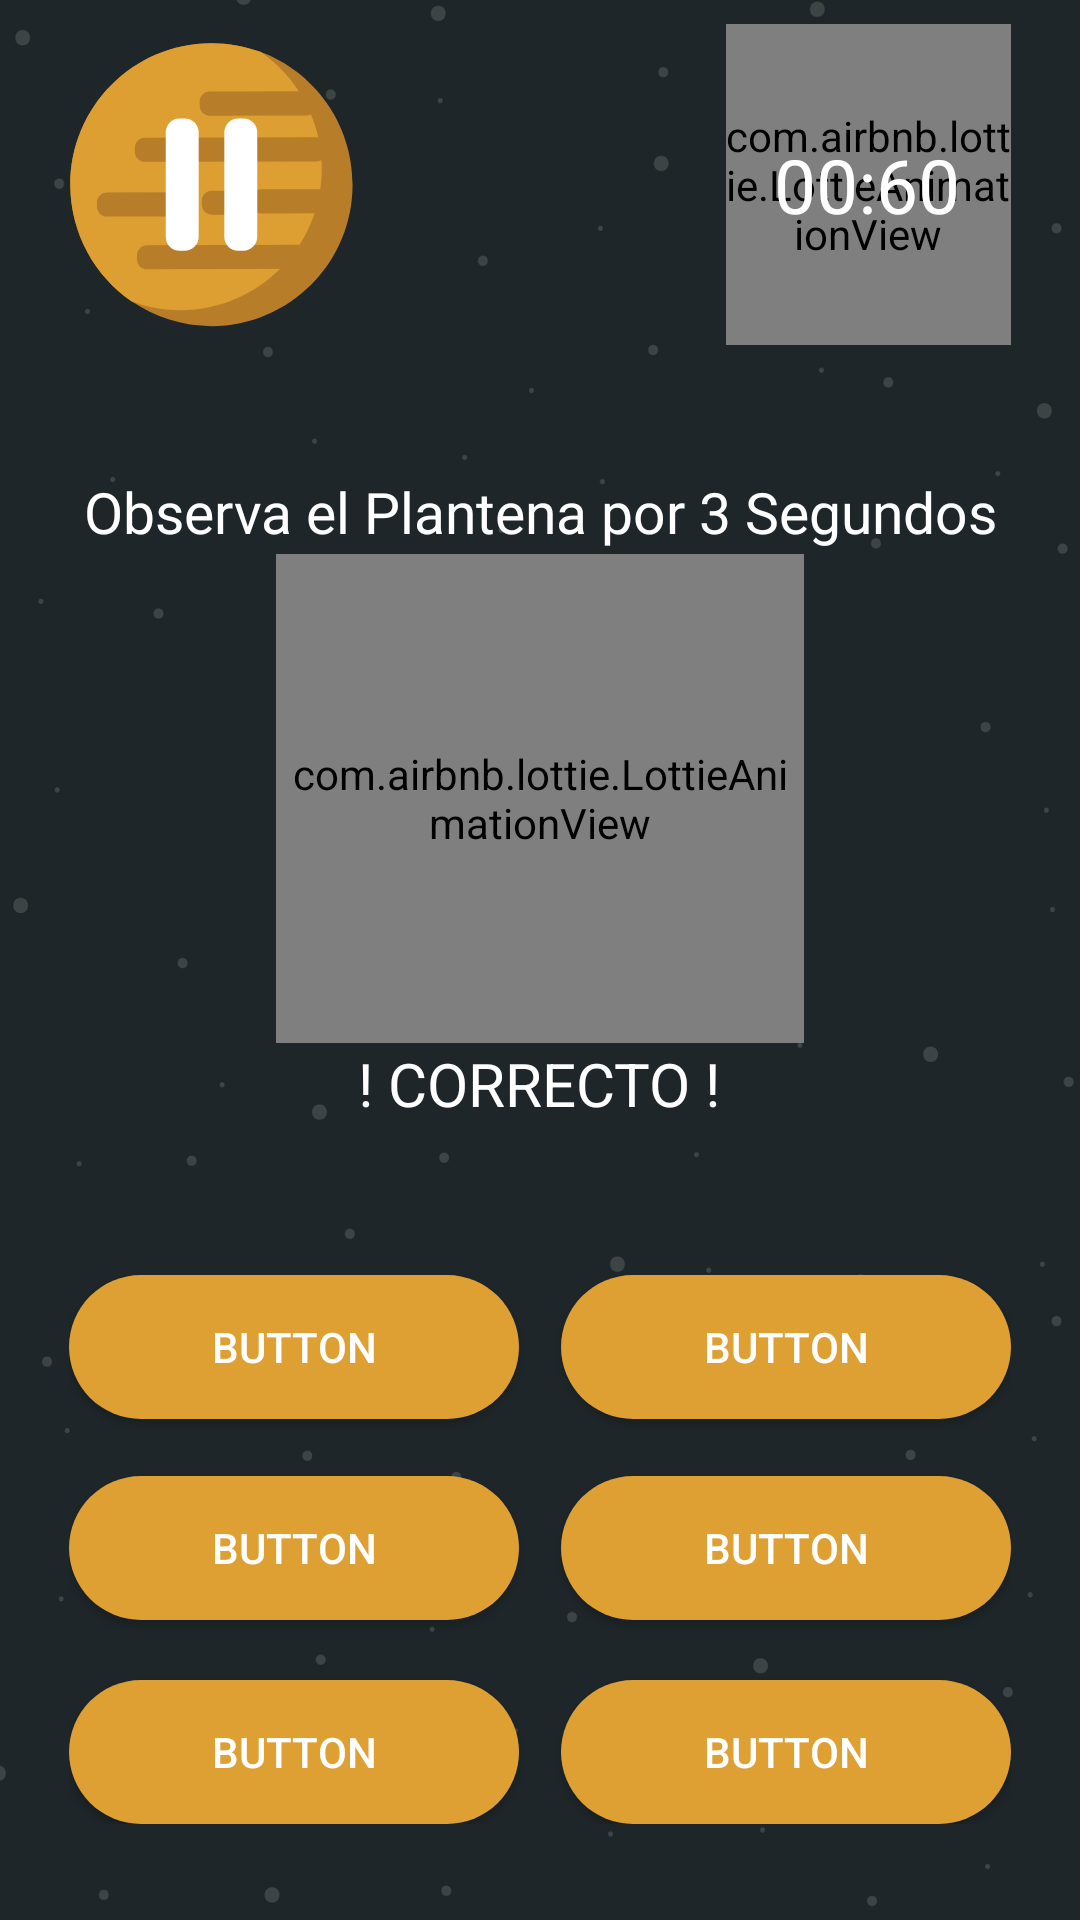

Where icons sit on this 1080px x 1920px app screen, as (x1, y1, x2, y2):
pausa: (70, 43, 353, 327)
